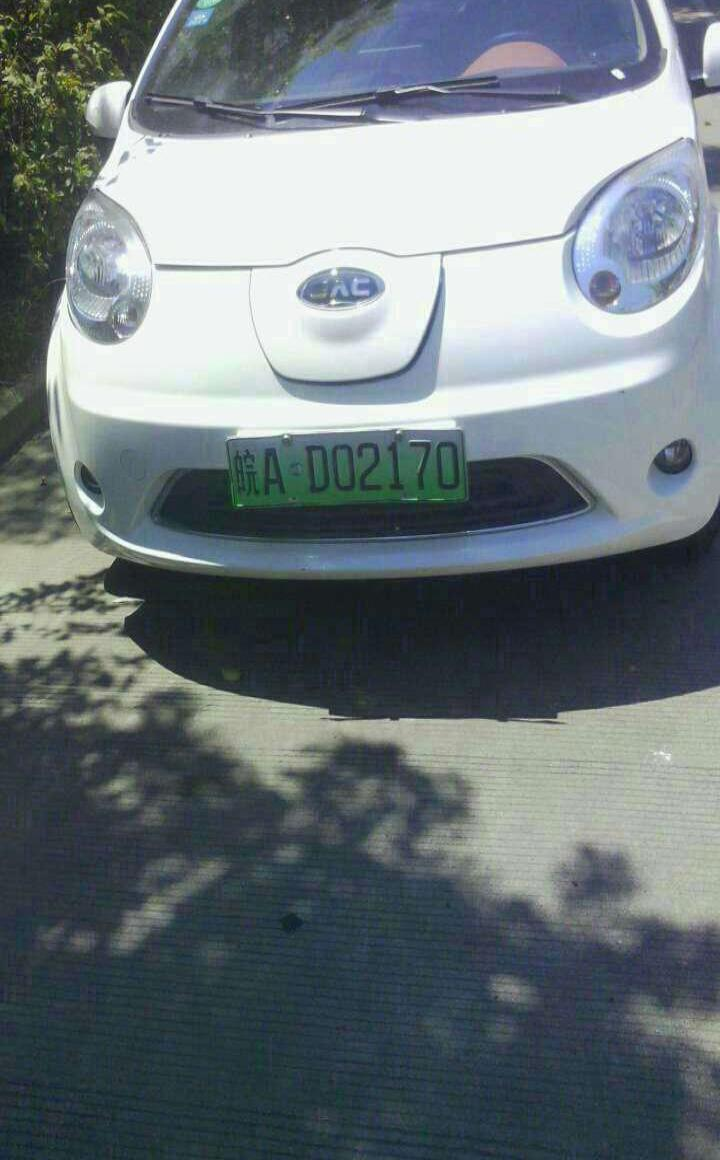car_id: (219, 434, 464, 513)
